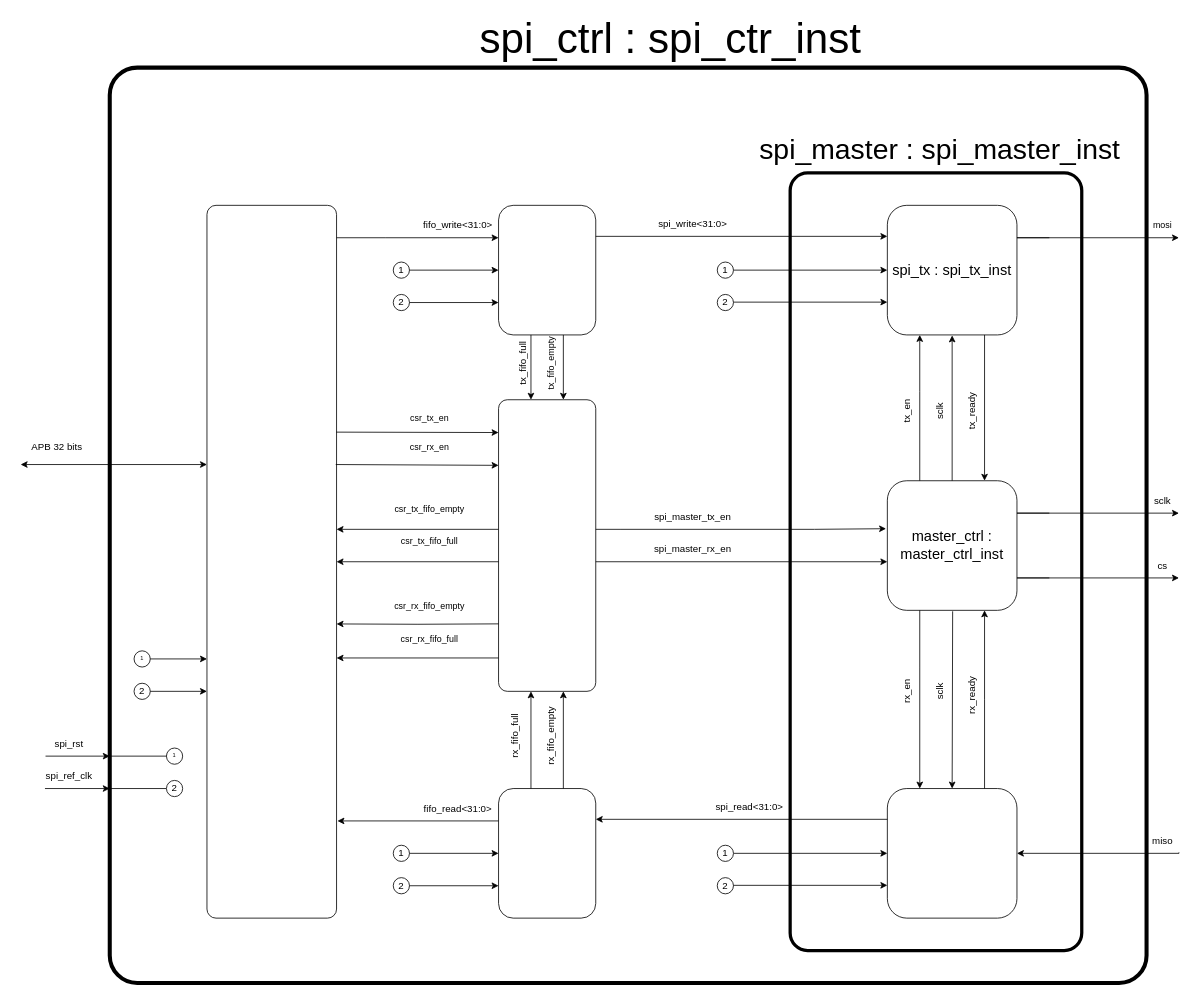
Image size: 1200x999. Some labels were removed from this diagram. The shapes that lost their labels are listed below. From the top down, each one's centre as x and y in pixels, then its label:
At (547,270): "fif0 : tx_fifo".
At (271,561): "apb_slave : apb_slave_inst".
At (547,545): "csr : csr_inst".
At (547,853): "fifo : rx_fifo".
At (952,853): "spi_rx : spi_rx_inst".
